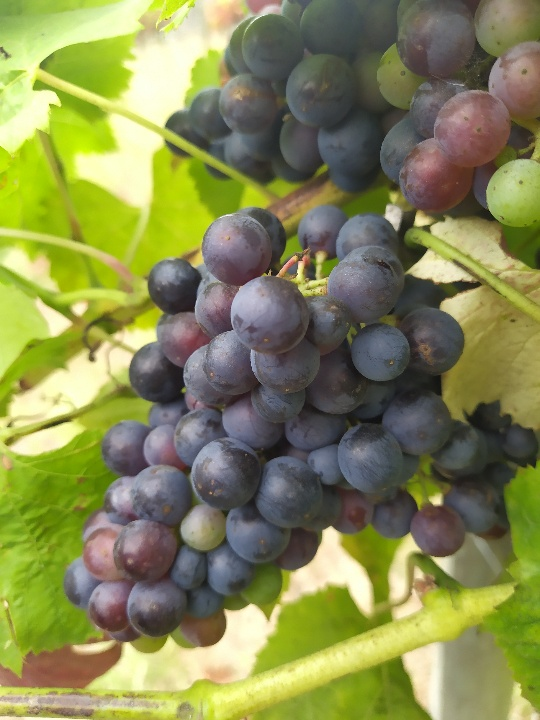grape: (65, 201, 469, 657)
